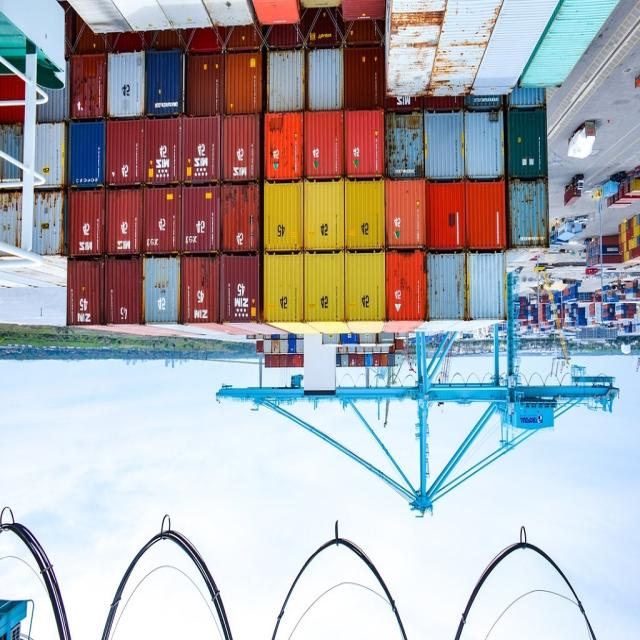container_door: (223, 254, 258, 319), (68, 258, 101, 324), (264, 186, 301, 243), (108, 257, 139, 323), (185, 255, 216, 321), (145, 261, 179, 321), (150, 117, 180, 179), (392, 256, 420, 320)
